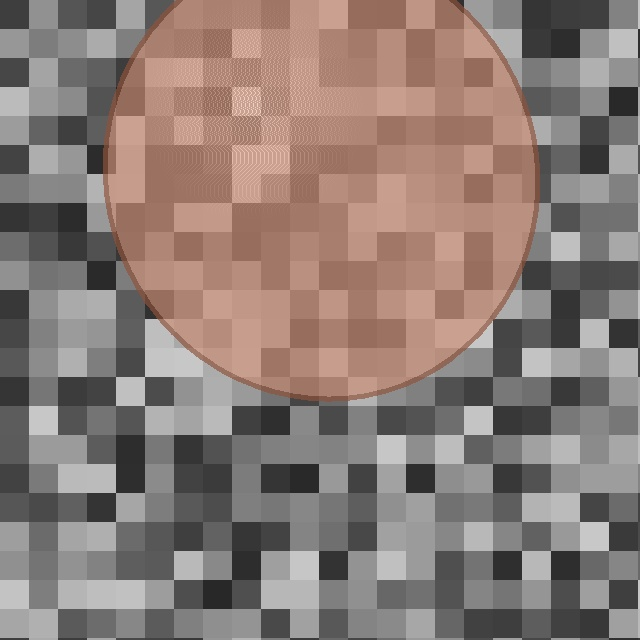lens: (106, 0, 536, 398)
